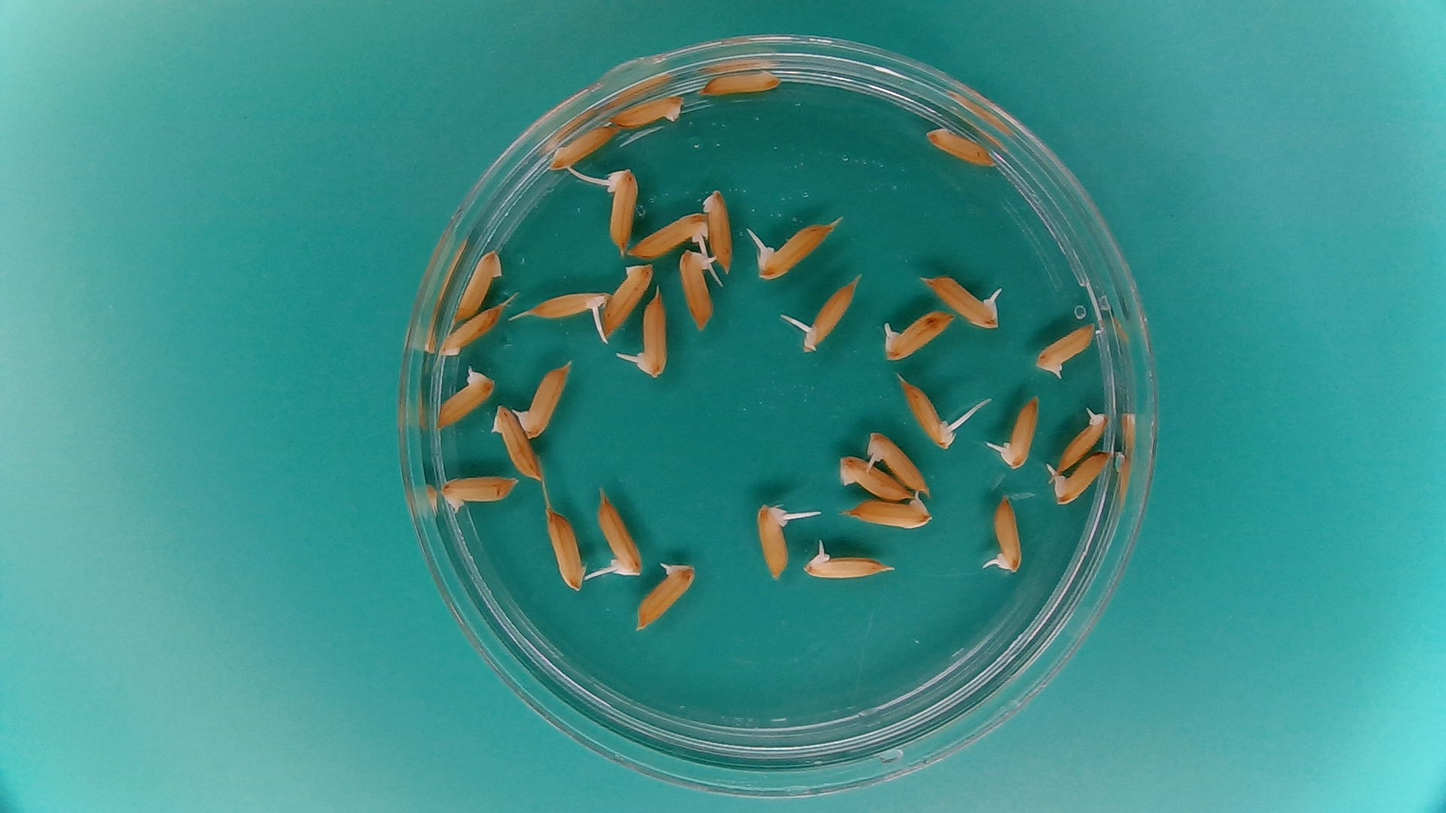no: (488, 402, 545, 483), (436, 298, 508, 360), (454, 246, 505, 322), (604, 260, 654, 337), (834, 456, 914, 504), (549, 121, 621, 172), (922, 124, 997, 170), (545, 512, 584, 592), (608, 90, 686, 129), (702, 186, 735, 274), (699, 66, 782, 99), (441, 475, 521, 507)
yes: (897, 374, 965, 450), (752, 222, 831, 282), (801, 276, 861, 352), (926, 274, 1005, 330), (627, 210, 712, 261), (434, 364, 499, 430), (636, 563, 697, 631), (520, 363, 573, 440), (1033, 320, 1099, 379), (880, 308, 951, 362), (1051, 408, 1106, 473), (866, 437, 926, 495), (843, 493, 934, 530), (632, 292, 670, 380), (999, 390, 1042, 467), (604, 168, 642, 254), (597, 497, 636, 580), (1052, 456, 1114, 506), (752, 507, 792, 583), (678, 250, 715, 329), (526, 290, 609, 324), (990, 492, 1025, 572), (801, 553, 888, 583)
